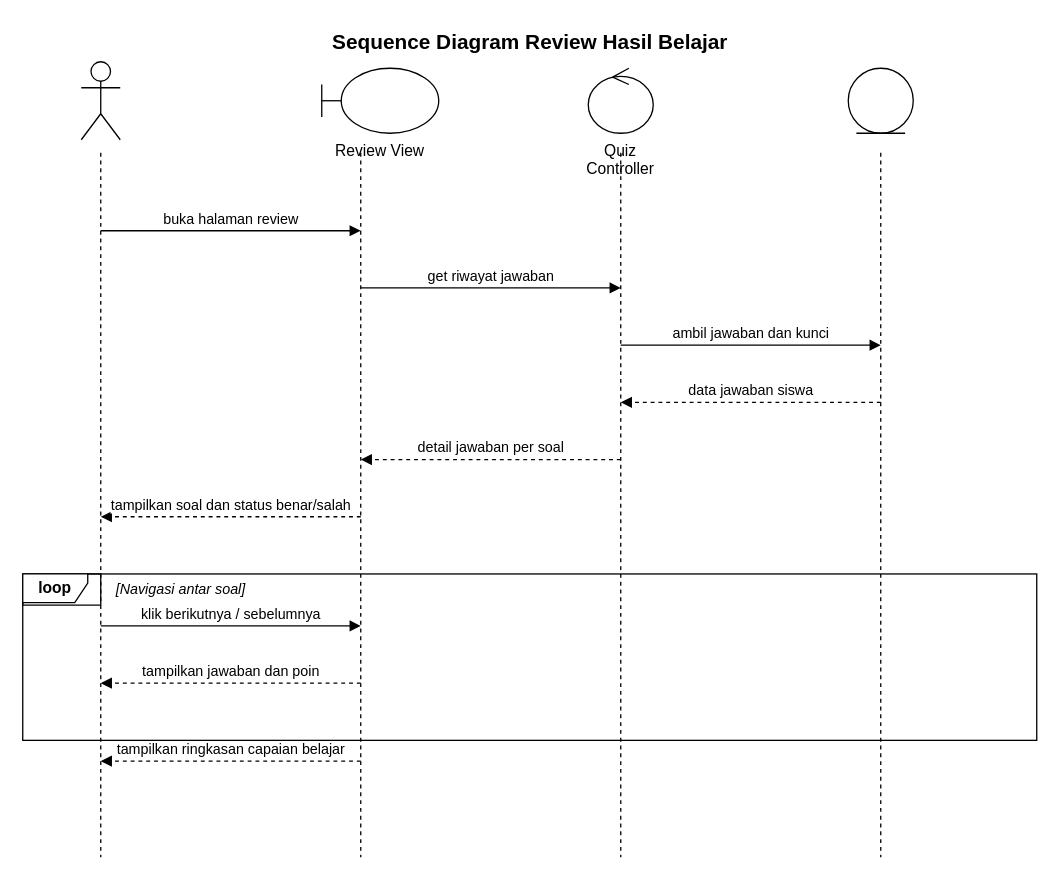
Some shapes in this 1060 by 881 pixel diagram are drawn without their labels. The box of each missing label's shape, as (x1, y1, x2, y2) in pixels:
Siswa: (80, 60, 120, 140)
Student Answer: (847, 67, 913, 133)
